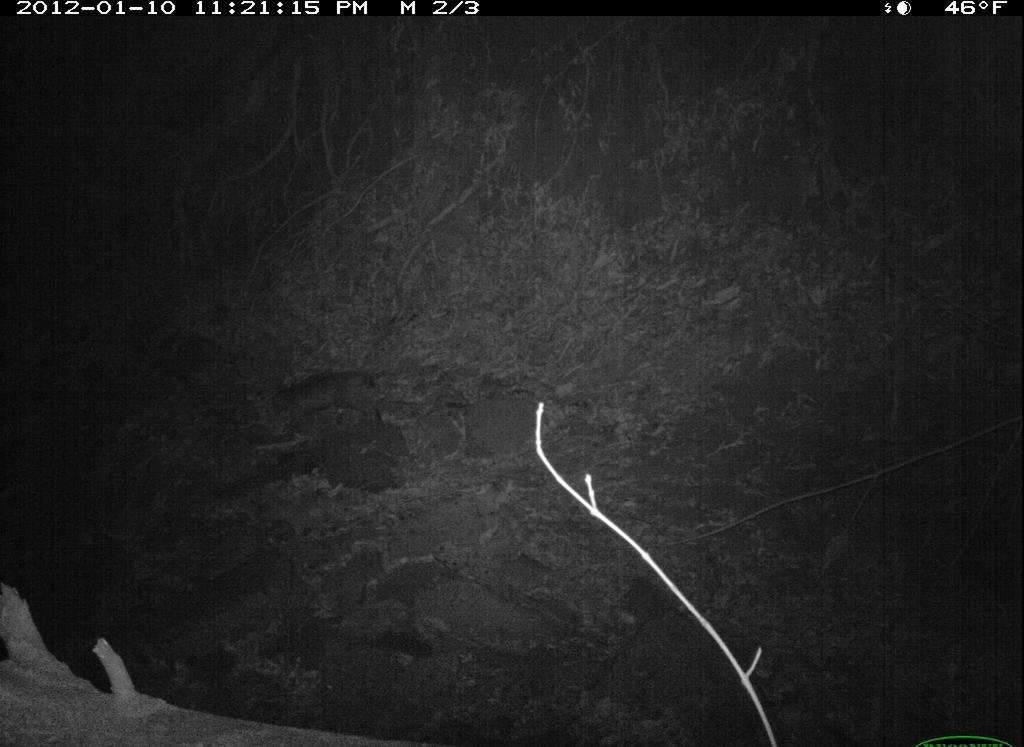bobcat: (261, 365, 406, 446)
